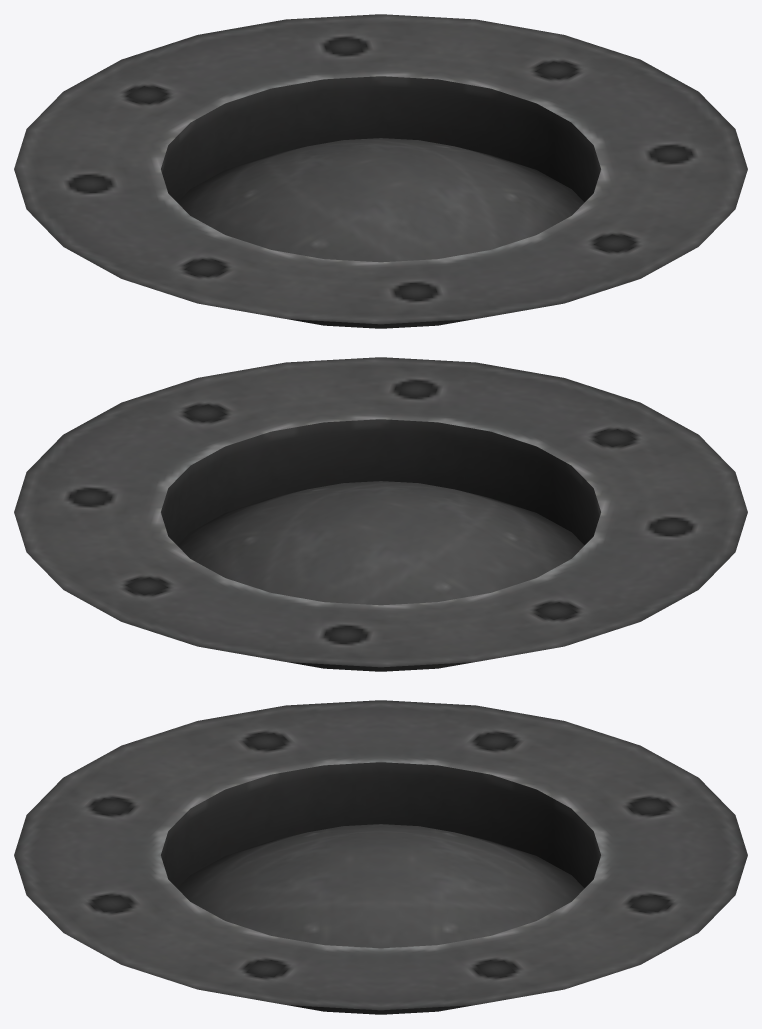
The model's file is end_basic_s0.obj.
3 renders of one model, top to bottom at view 1: azimuth 30°, elevation 25°; view 2: azimuth 150°, elevation 25°; view 3: azimuth 270°, elevation 25°, orthographic.
Parts seen in each view (by area): view 1: end; view 2: end; view 3: end.
Part boxes in pixels (x1,y1,x2,y2): end: [14, 14, 747, 328]; end: [14, 357, 747, 671]; end: [14, 700, 747, 1014].
Bounding box in the file's own units: 0.625 × 0.0625 × 0.625.
